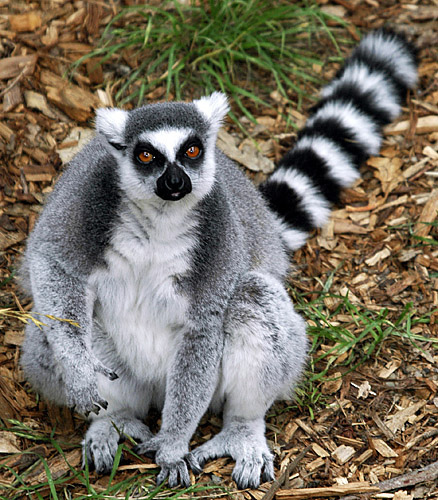cat: (16, 22, 422, 490)
